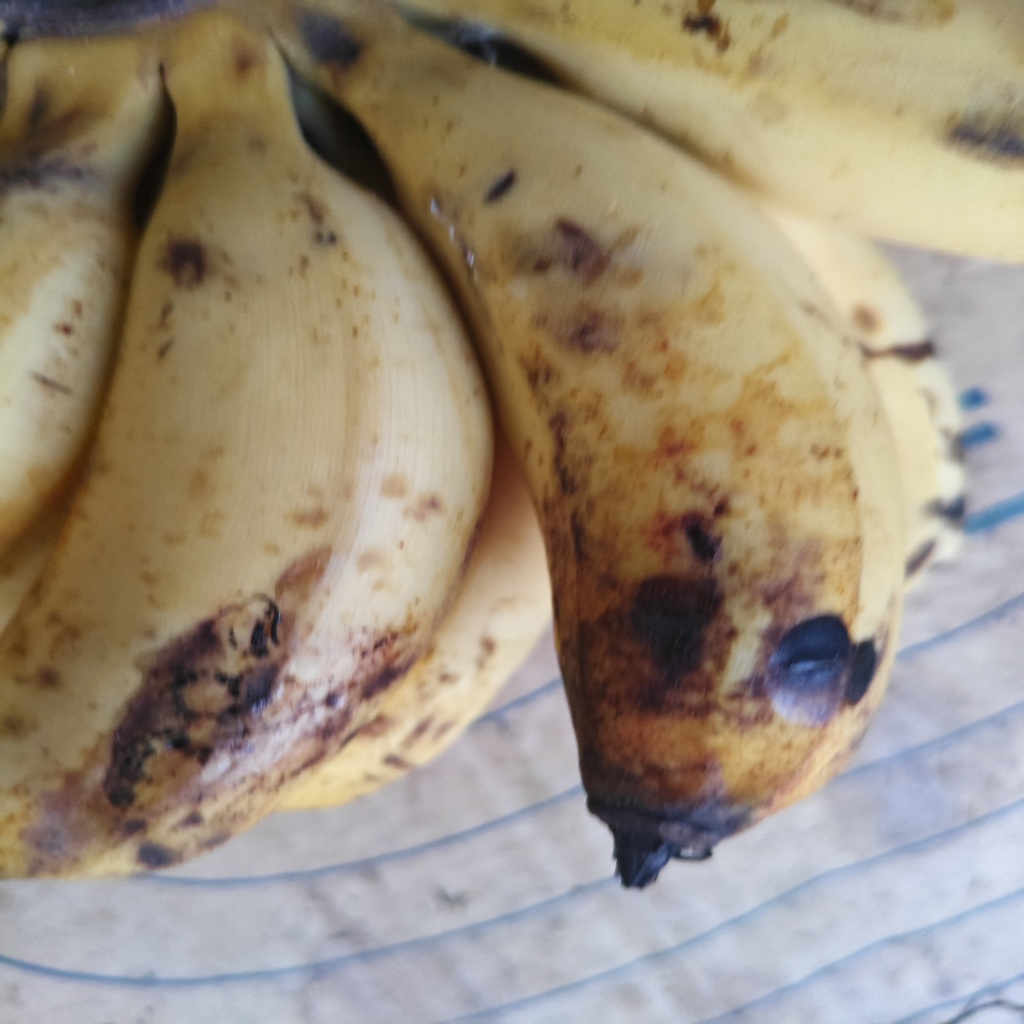unhealthy: (346, 96, 907, 889), (1, 118, 493, 877)
